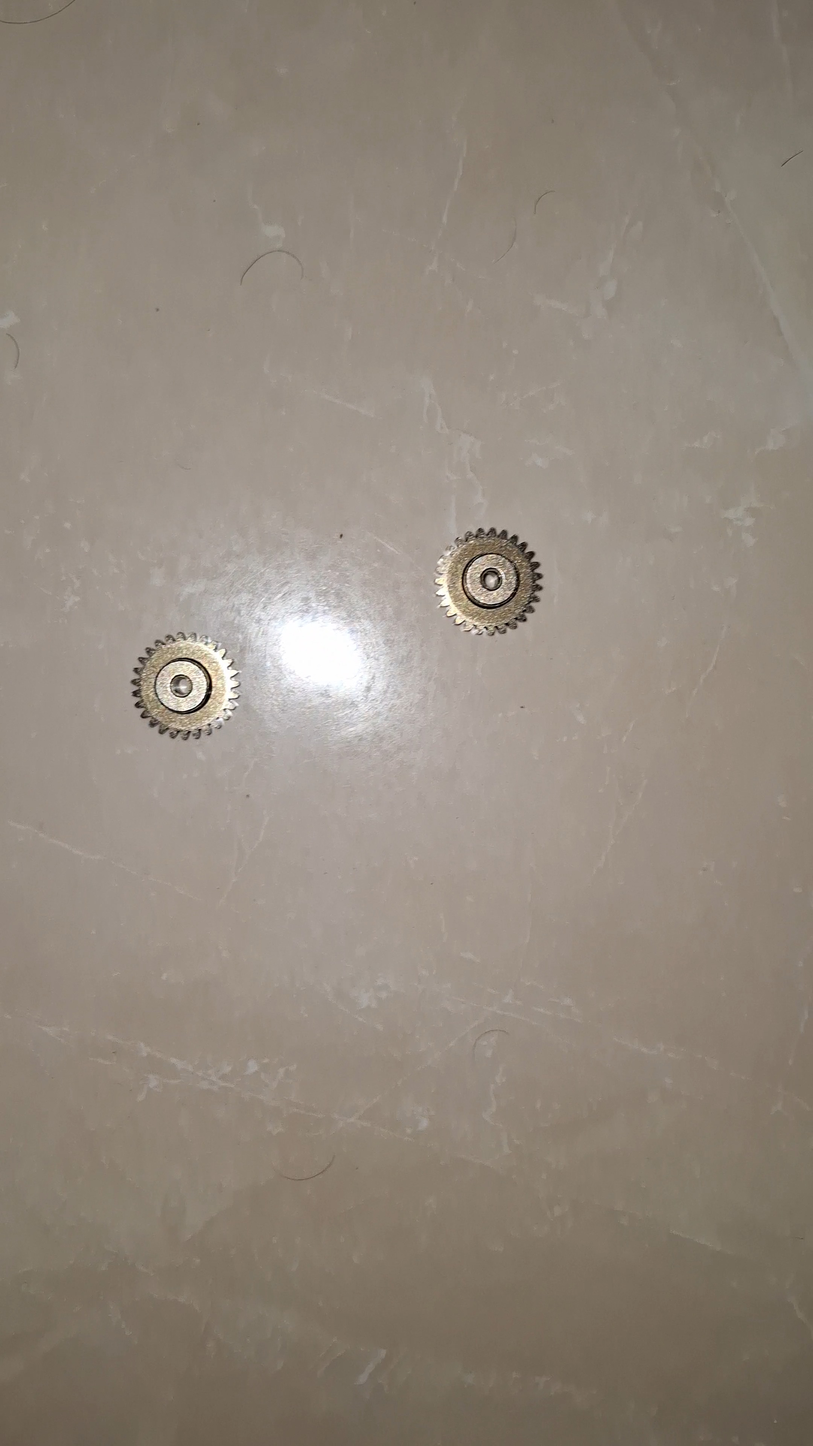spur gear: (133, 633, 239, 738), (436, 528, 540, 634)
